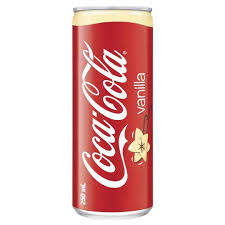can: (69, 3, 156, 222)
